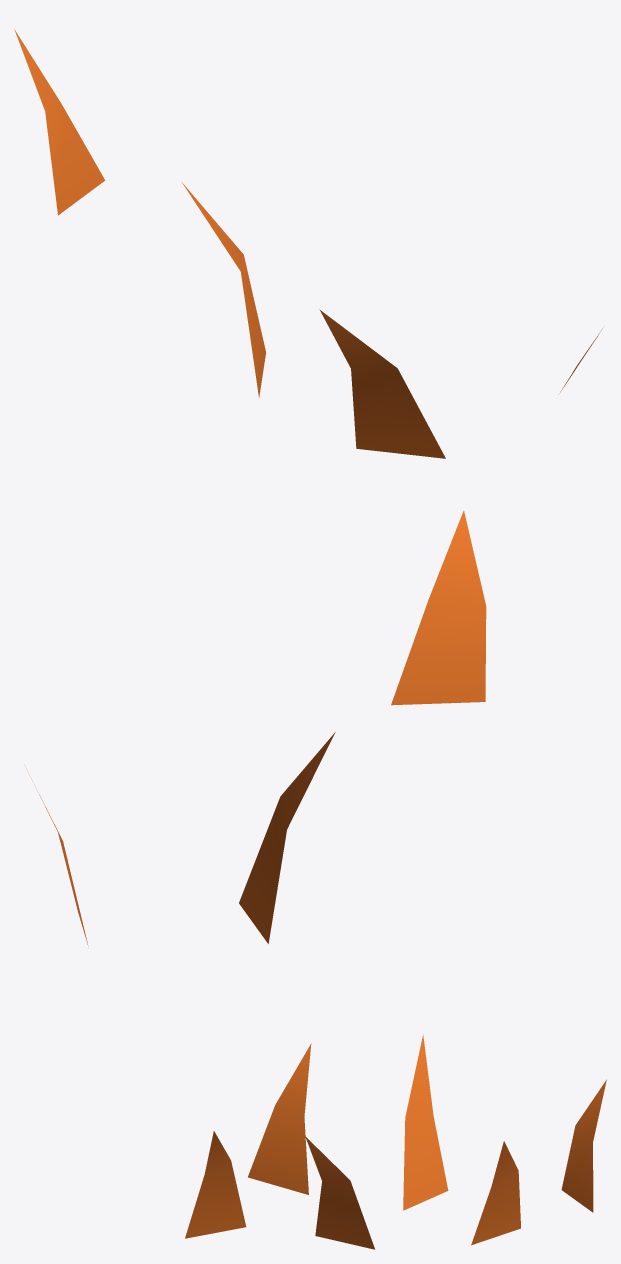
3 renders of one model, top to bottom at view 1: azimuth 30°, elevation 25°; view 2: azimuth 150°, elevation 25°; view 3: azimuth 270°, elevation 25°, orthographic. The views are drawn at different scales.
Parts seen in each view (by area): view 1: obj9; view 2: obj9; view 3: obj9.
Part boxes in pixels (left/top/right/bottom): obj9: left=14, top=29, right=602, bottom=458; obj9: left=25, top=510, right=486, bottom=945; obj9: left=185, top=1034, right=606, bottom=1249.
Size of the model in its own units: 4.46 by 3.01 by 11.48.
1 material, 1 textured.
